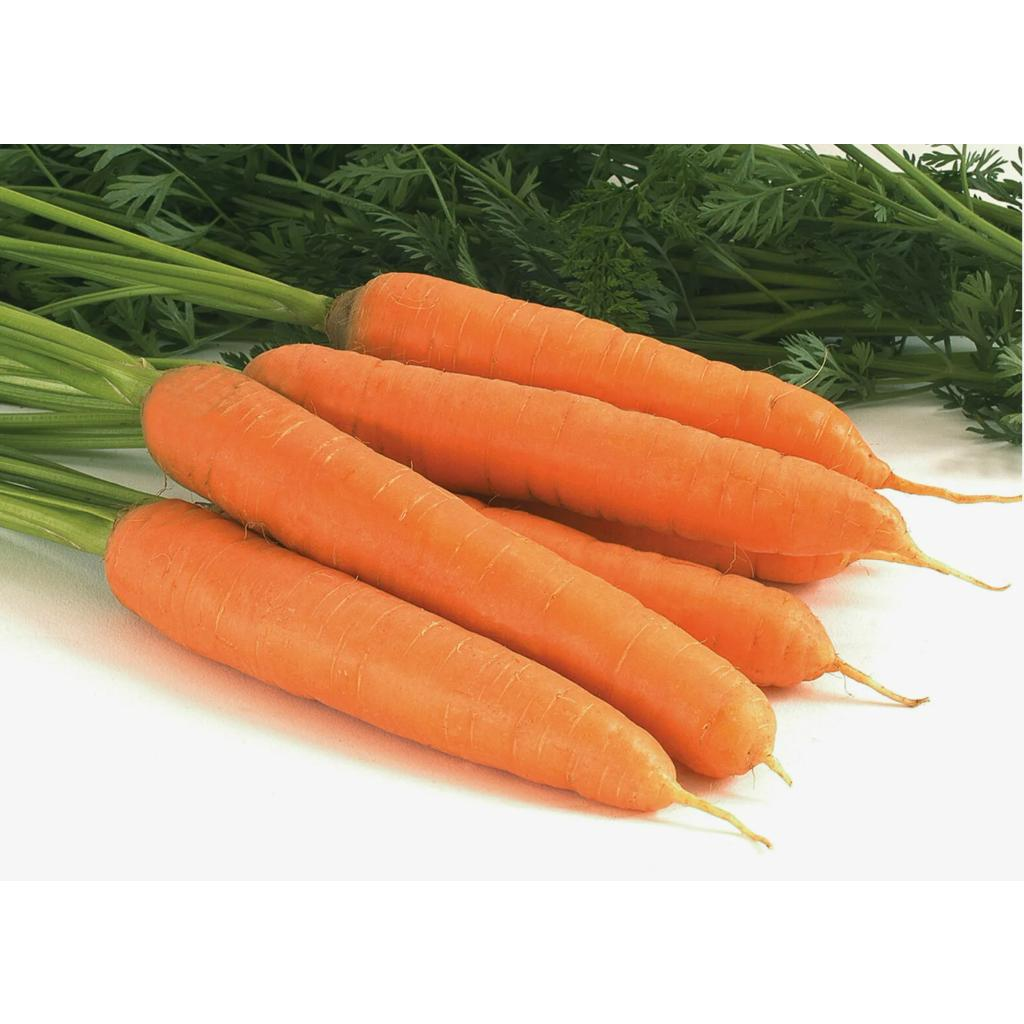carrot: (142, 365, 776, 775), (106, 499, 694, 809), (246, 343, 924, 563), (326, 271, 898, 487), (478, 507, 840, 685)
